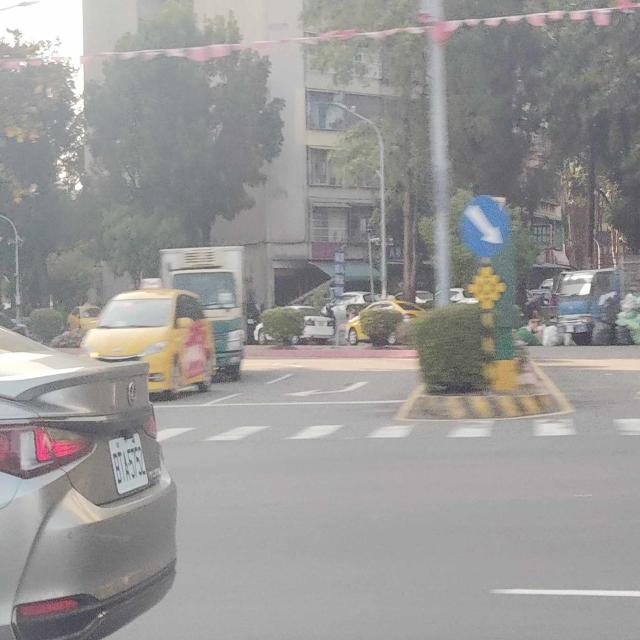zebra_crossing: (77, 205, 243, 640)
